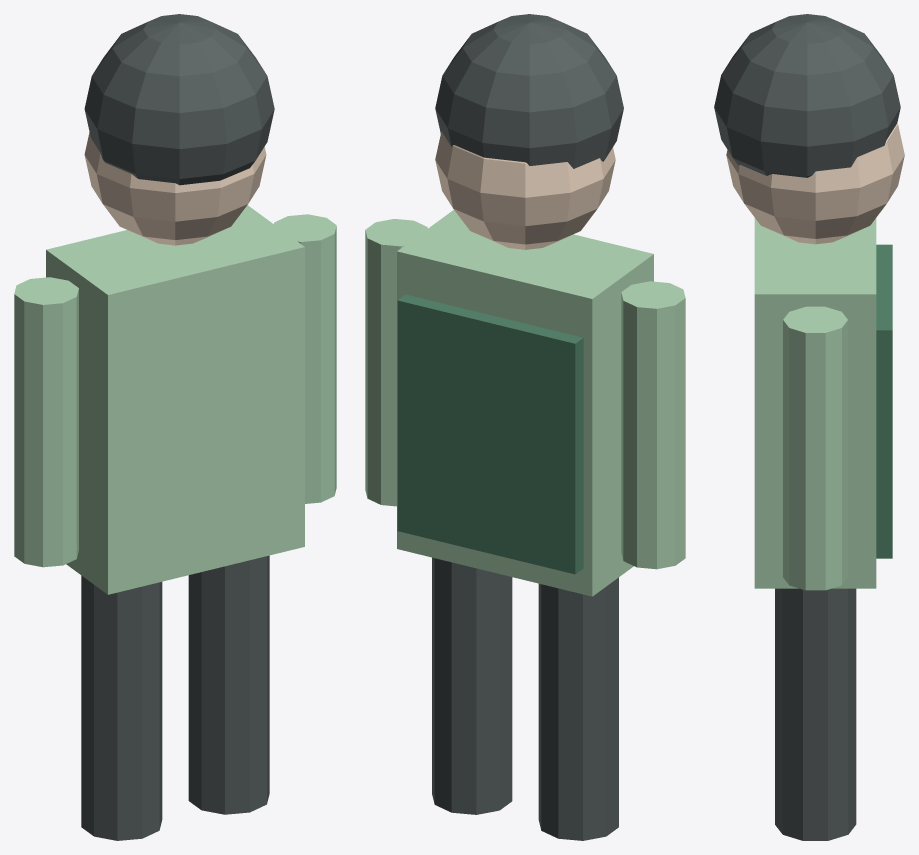
File: cashier.glb
3 renders of one model, left to right at view 1: azimuth 30°, elevation 25°; view 2: azimuth 150°, elevation 25°; view 3: azimuth 270°, elevation 25°, orthographic.
Visible parts, largest first — view 1: torso.001, hair, leg_-0.001, leg_0.001, arm_-0.001, arm_0.001, head.001; view 2: apron.001, torso.001, hair, leg_-0.001, leg_0.001, arm_-0.001, head.001, arm_0.001; view 3: torso.001, hair, leg_0.001, arm_0.001, head.001, apron.001.
Part boxes in pixels (left/top/right/bottom): torso.001: left=46, top=205, right=304, bottom=594; hair: left=84, top=14, right=274, bottom=185; leg_-0.001: left=81, top=575, right=162, bottom=840; leg_0.001: left=188, top=555, right=269, bottom=814; arm_-0.001: left=14, top=277, right=78, bottom=567; arm_0.001: left=274, top=214, right=336, bottom=503; head.001: left=84, top=132, right=266, bottom=245; apron.001: left=397, top=294, right=583, bottom=574; torso.001: left=397, top=210, right=653, bottom=596; hair: left=435, top=14, right=623, bottom=168; leg_-0.001: left=538, top=577, right=618, bottom=840; leg_0.001: left=432, top=557, right=512, bottom=814; arm_-0.001: left=621, top=281, right=685, bottom=569; head.001: left=435, top=131, right=615, bottom=249; arm_0.001: left=365, top=219, right=427, bottom=506; torso.001: left=754, top=218, right=876, bottom=588; hair: left=714, top=14, right=900, bottom=177; leg_0.001: left=775, top=588, right=856, bottom=840; arm_0.001: left=783, top=306, right=847, bottom=590; head.001: left=726, top=123, right=904, bottom=244; apron.001: left=876, top=244, right=892, bottom=558.
Bounding box in the file's own units: 0.8722 × 2.11 × 0.47.
